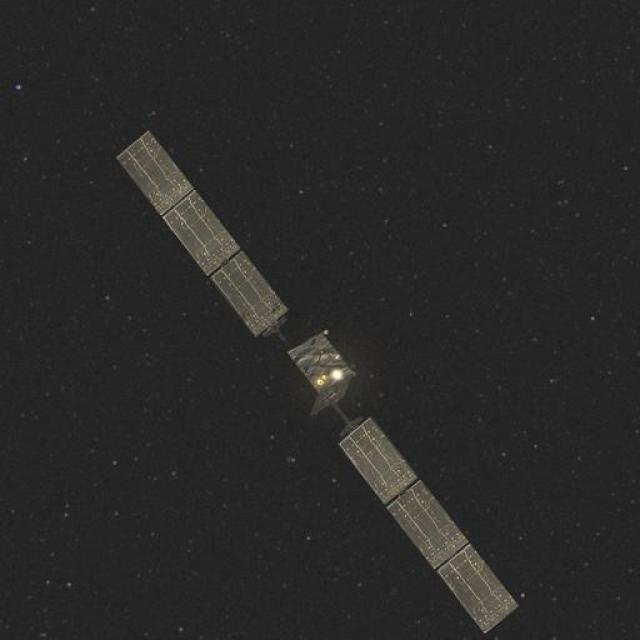smart_1: (195, 283, 445, 525)
